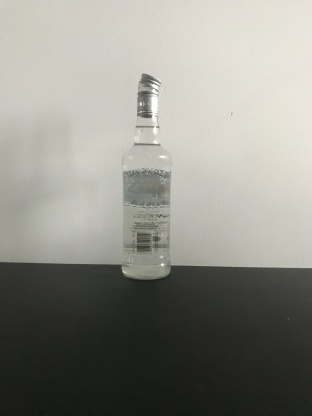nakretka: (135, 71, 162, 117)
